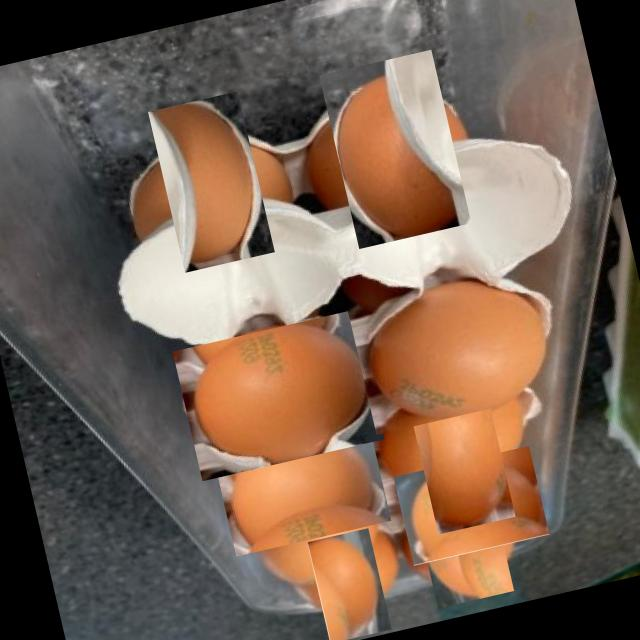eggs: (172, 308, 384, 482), (348, 268, 560, 434), (306, 60, 482, 236), (210, 414, 392, 557), (134, 104, 289, 260), (386, 374, 530, 518), (392, 446, 550, 566), (249, 497, 388, 597), (406, 488, 520, 602), (300, 534, 400, 634)
